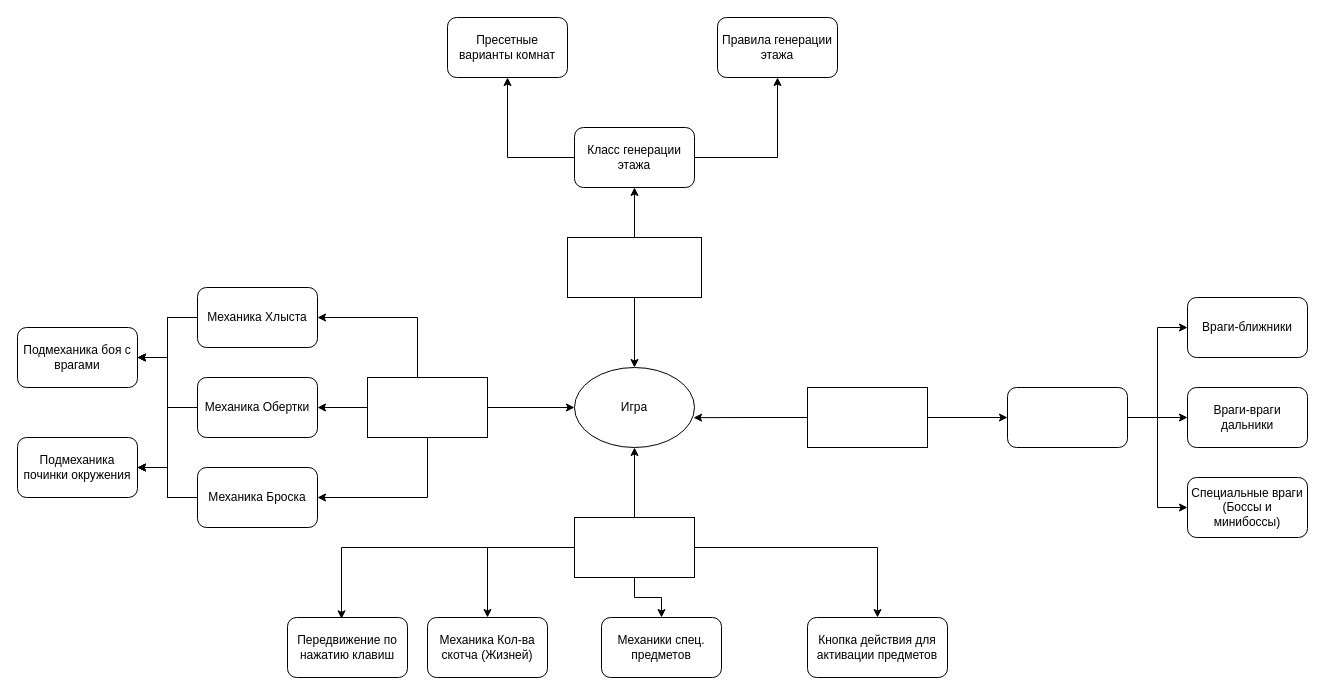
Some shapes in this 1325 by 695 pixel diagram are drawn without their labels. The shapes that lost their labels are listed below. From the top down, each one's centre as x and y in pixels, then its label:
point (634, 267): Механика псевдослучайной генерации комнат
point (427, 407): Механика использования Скотча
point (867, 417): Механика врагов
point (1067, 417): Родительский поведенческий класс врагов
point (634, 547): Механика взаимодействия с персонажем
